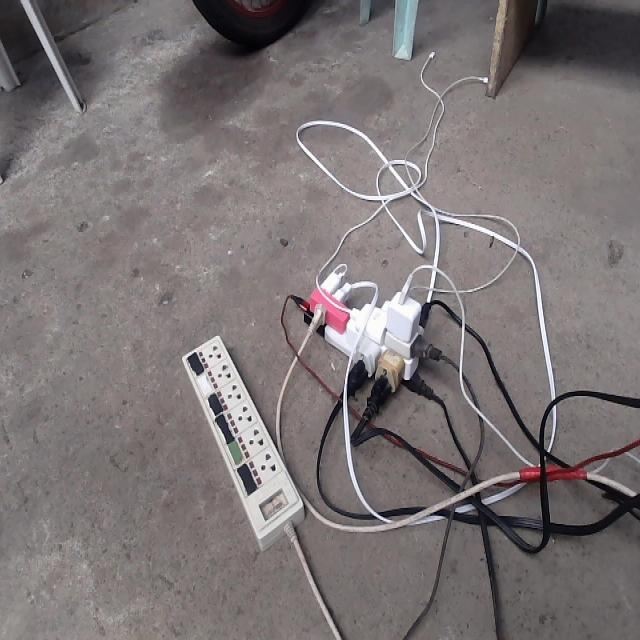-: (297, 261, 449, 411)
